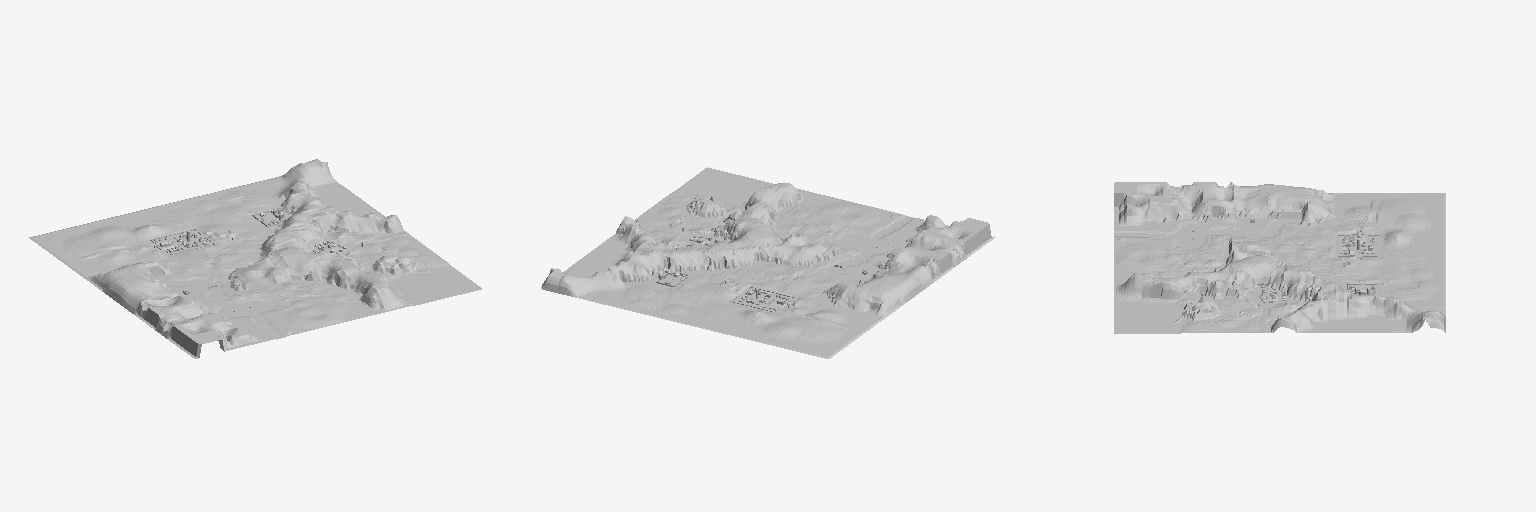
File: OutC1.Odm.obj
The picture shows the model from 3 angles: view 1: azimuth 30°, elevation 25°; view 2: azimuth 150°, elevation 25°; view 3: azimuth 270°, elevation 25°; orthographic projection.
Visible parts, largest first — view 1: _Ground_; view 2: _Ground_; view 3: _Ground_.
Part boxes in pixels (bbox=[...]): _Ground_: bbox=[29, 159, 481, 358]; _Ground_: bbox=[541, 167, 994, 358]; _Ground_: bbox=[1114, 182, 1445, 333].
Size of the model in its own units: 65024 by 3200 by 65024.